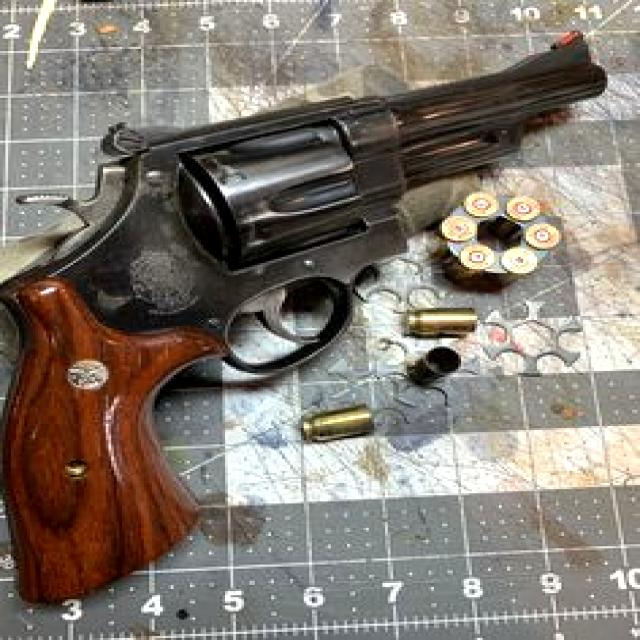revolver: (0, 25, 640, 631)
